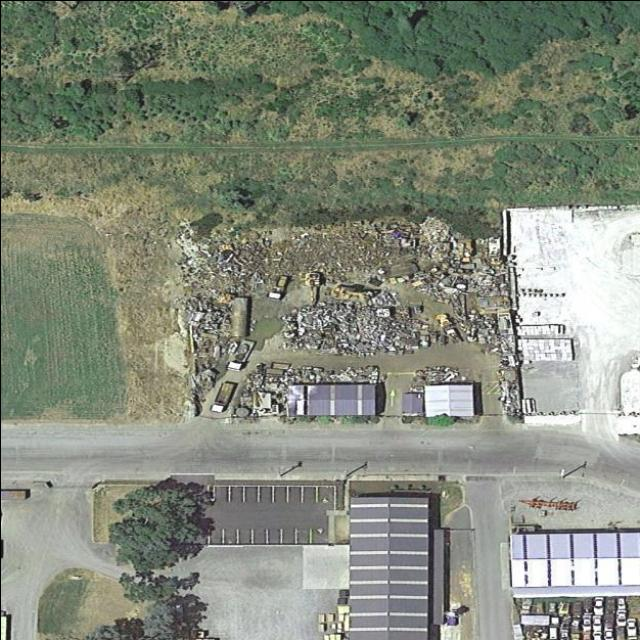dump_site: (183, 219, 476, 297), (446, 232, 523, 364), (282, 300, 457, 354), (182, 296, 226, 398), (245, 363, 382, 388), (233, 388, 288, 418), (412, 365, 465, 385)
